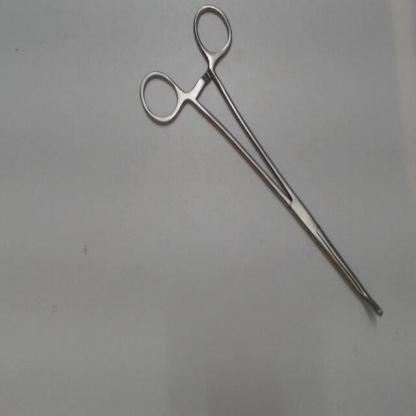Lahey Forceps: (128, 2, 385, 326)
